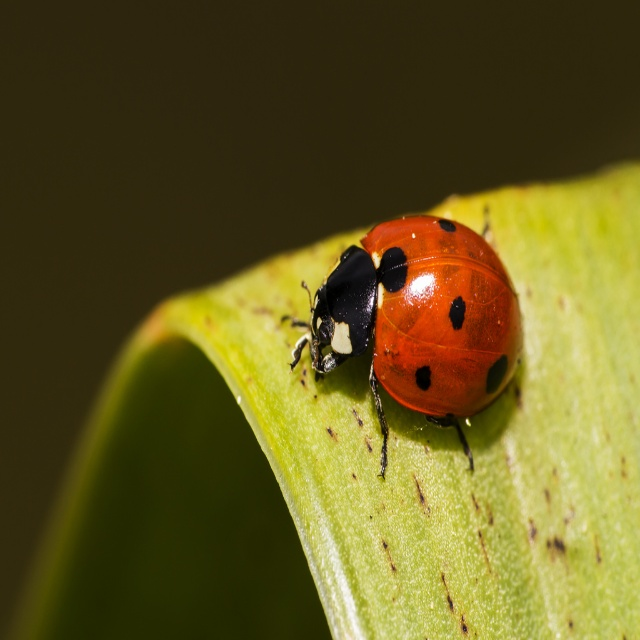Ladybug: (288, 212, 523, 468)
